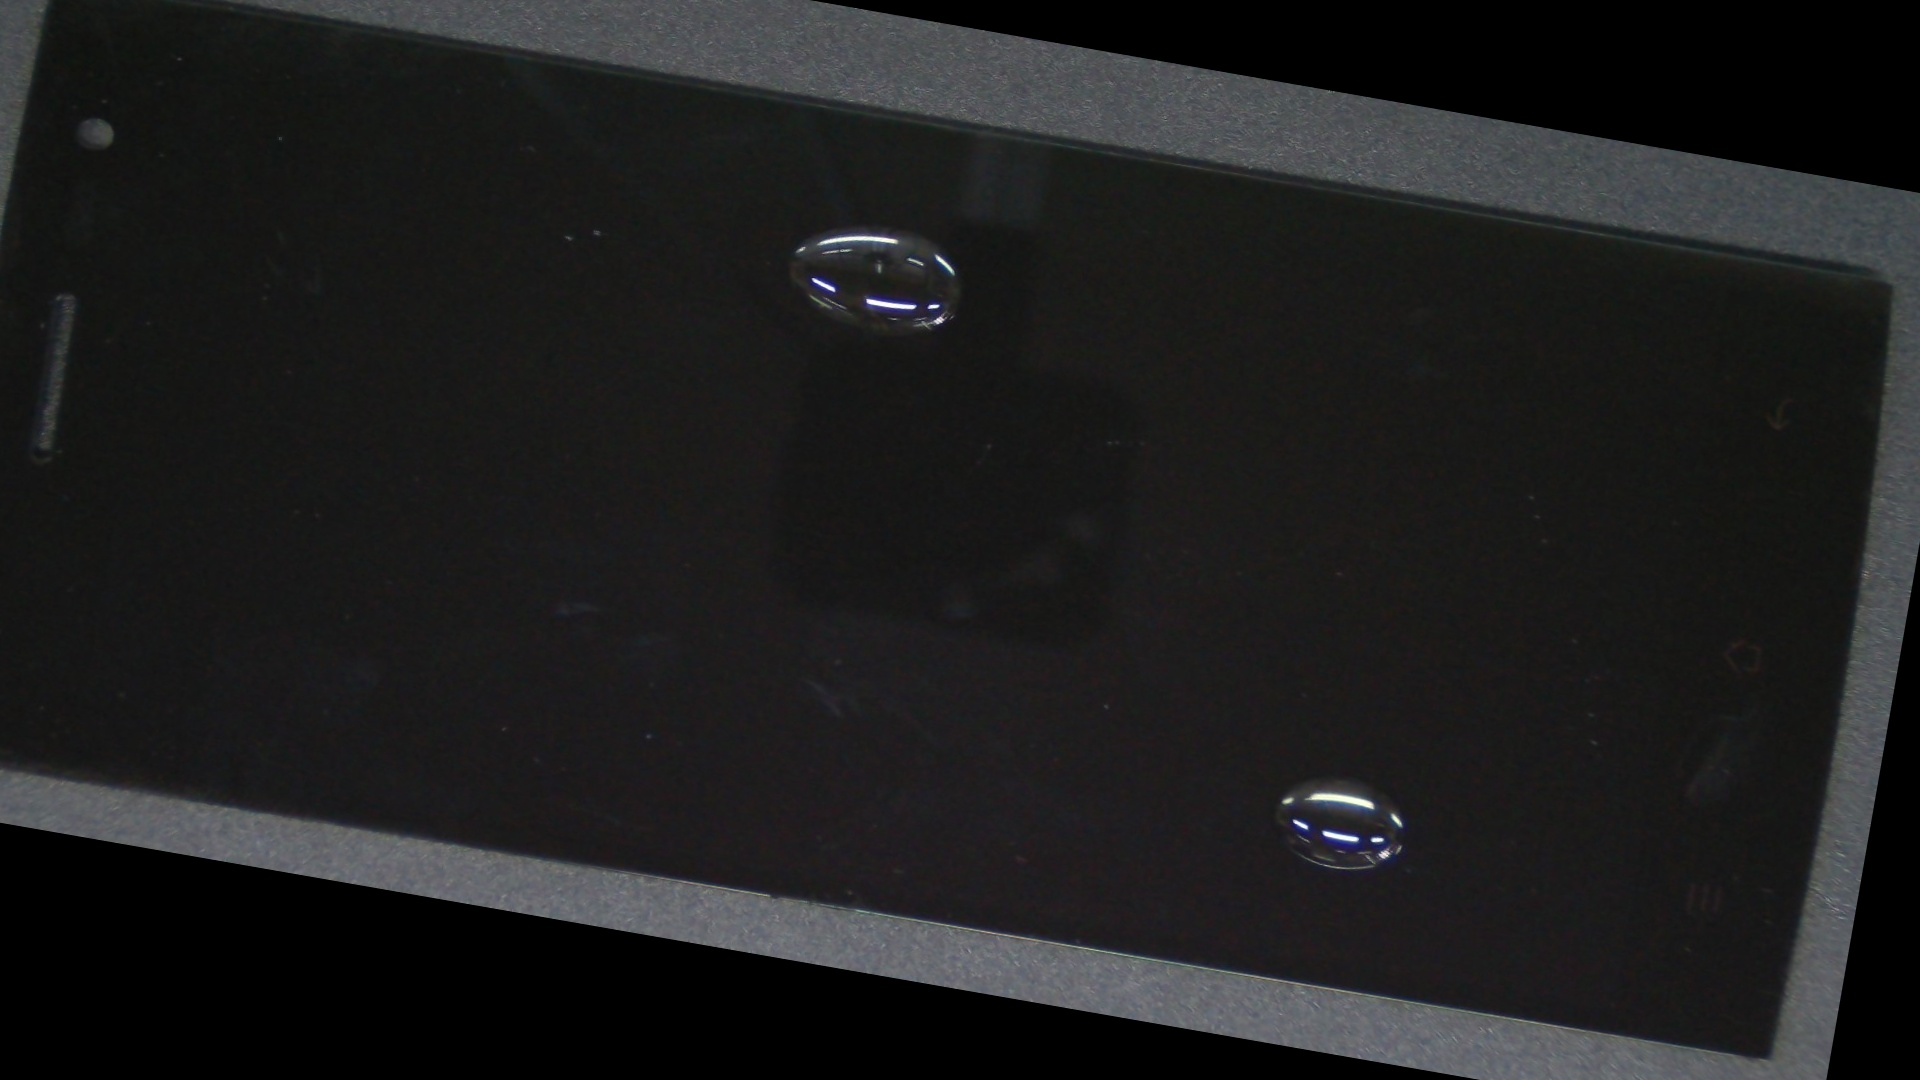oil: (570, 318, 1920, 1080), (406, 44, 1360, 411)
